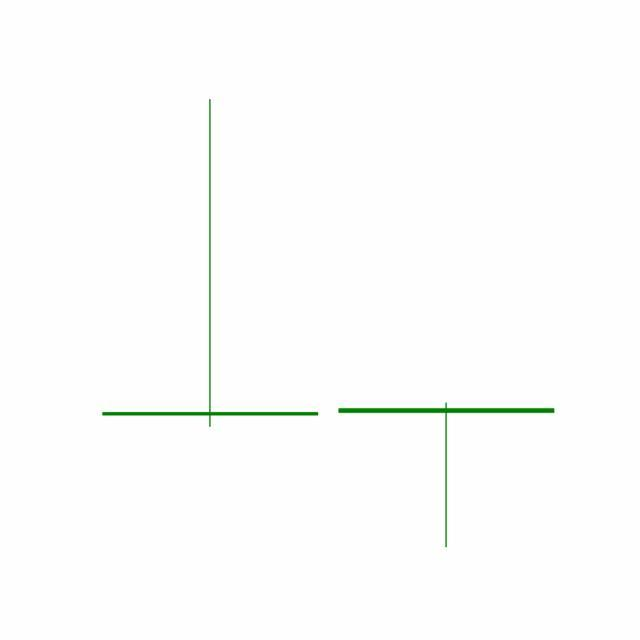Dragonfly Doji: (328, 402, 566, 550)
